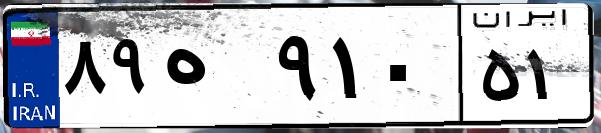0: (385, 28, 445, 110)
1: (330, 28, 385, 110), (525, 38, 570, 115)
5: (475, 38, 525, 113)
8: (57, 26, 110, 100)
9: (270, 28, 330, 110), (110, 28, 158, 98)
ه: (158, 20, 270, 120)
